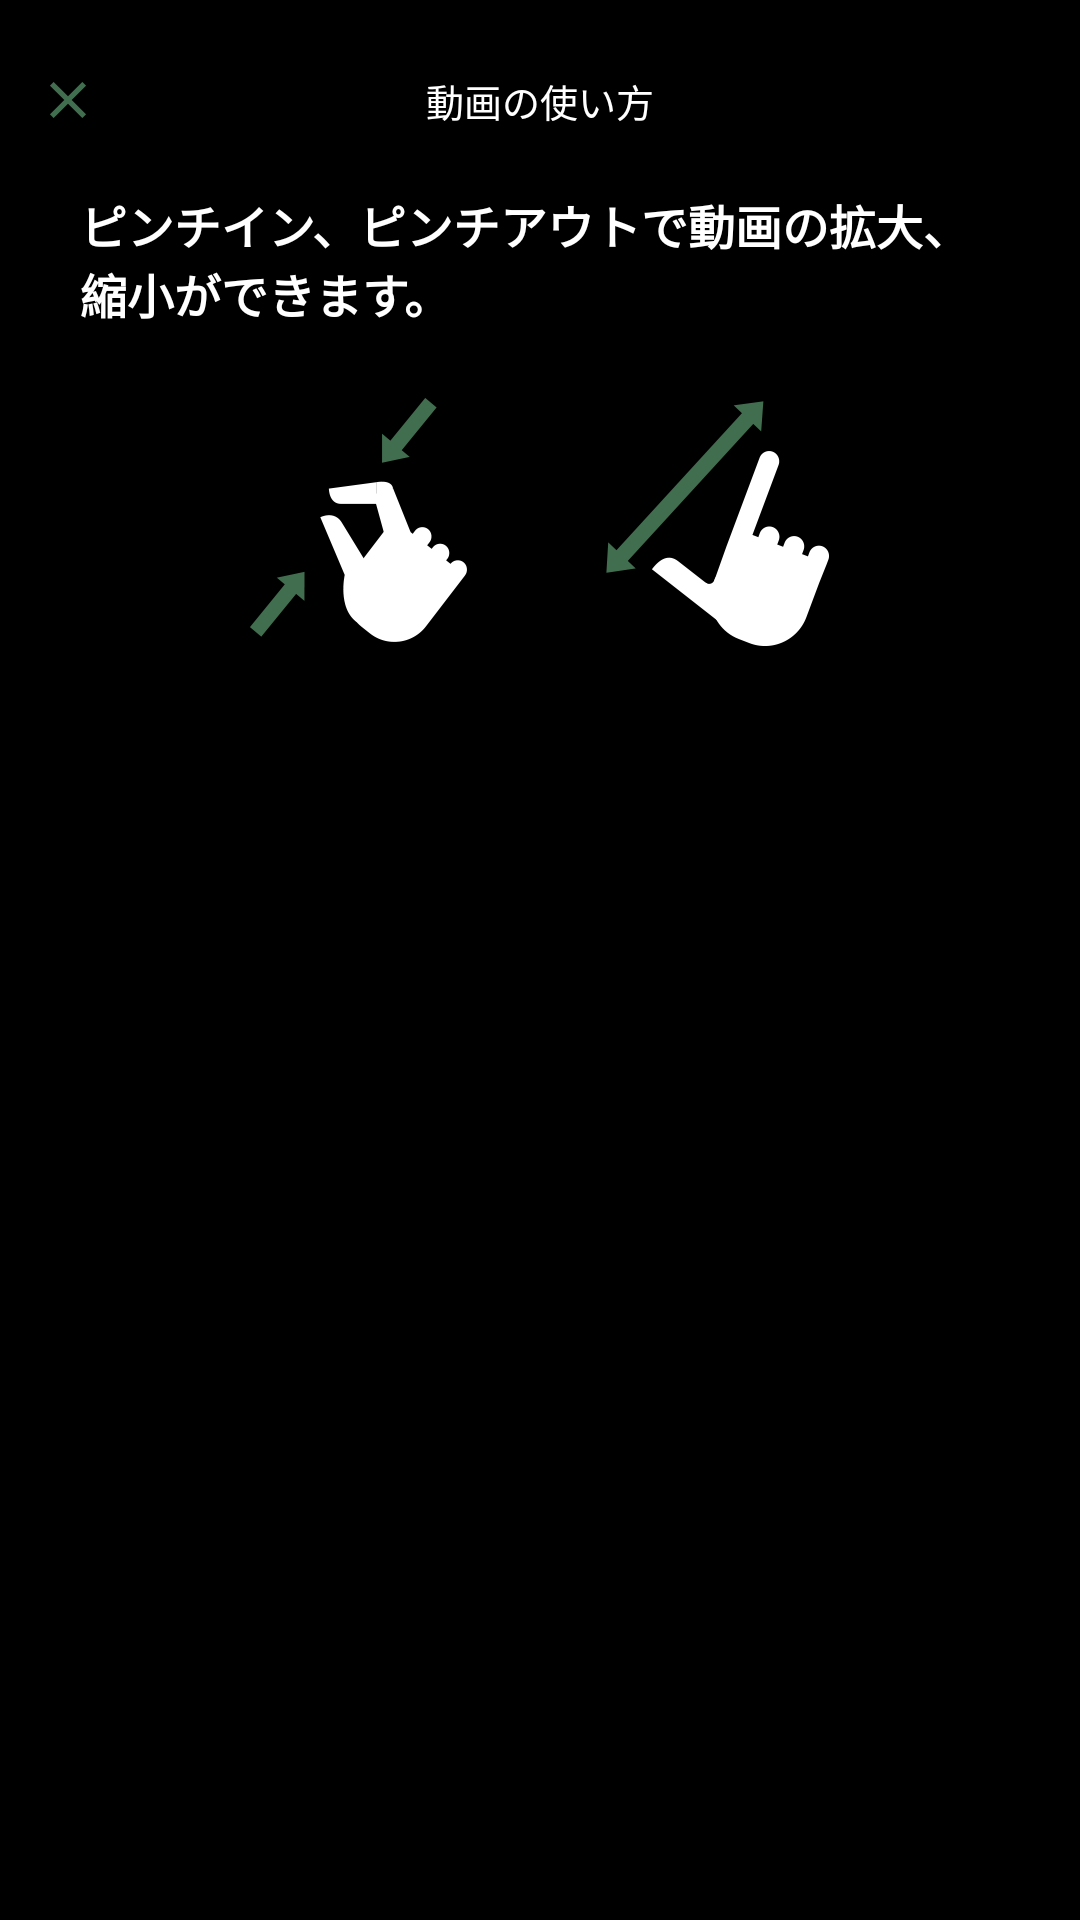

Icons on this 1080 × 1920 Android screen, each with the point to tap as (x,y):
close gr: (68,100)
